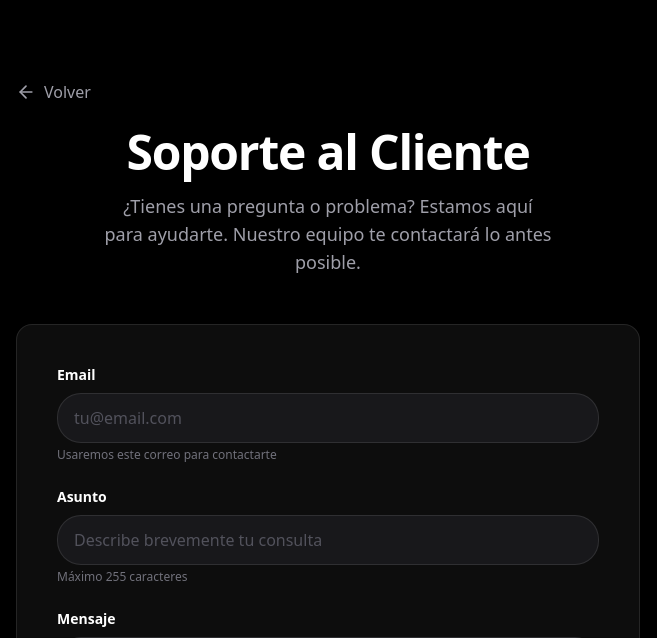
Test case: Support — formulario de contacto › envía el formulario exitosamente
Type "ana@test.cl" into the field labelled "Email" at coordinates (328, 418), box [57,393,599,443]
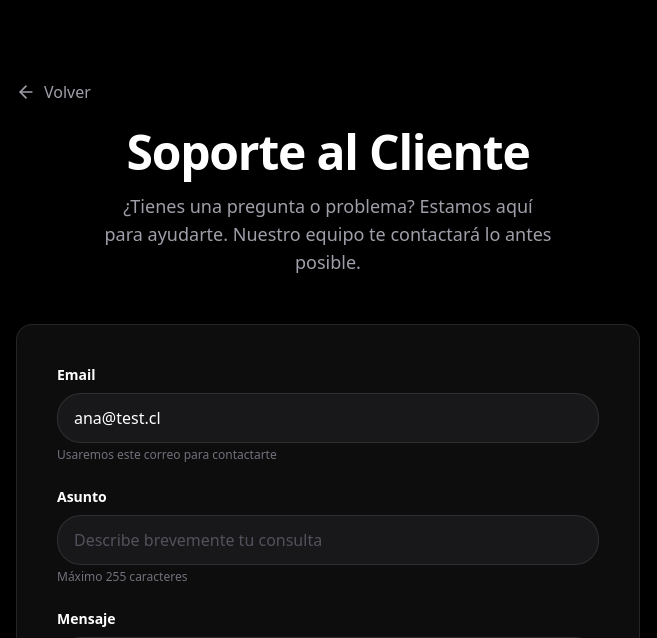
Type "Problema con mi cuenta" into the field labelled "Asunto" at coordinates (328, 540), box [57,515,599,565]
(page scrolled)
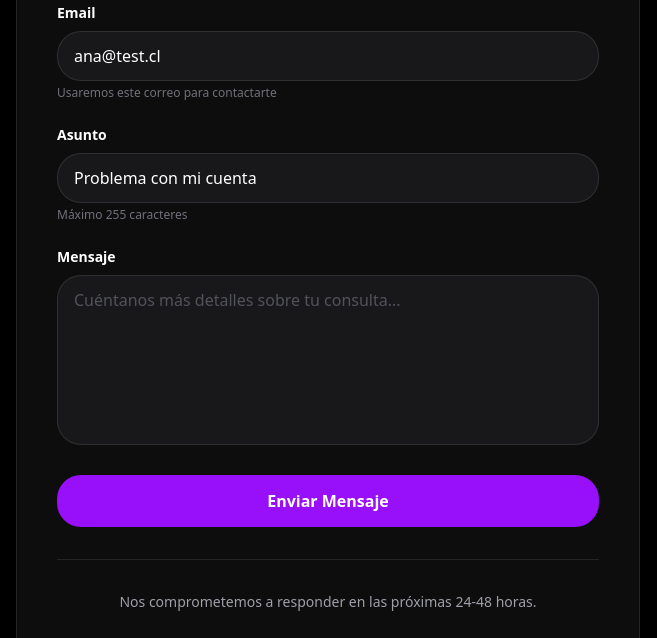
Type "No puedo subir mi demo." into the text box labelled "Mensaje" at coordinates (328, 360), box [57,275,599,445]
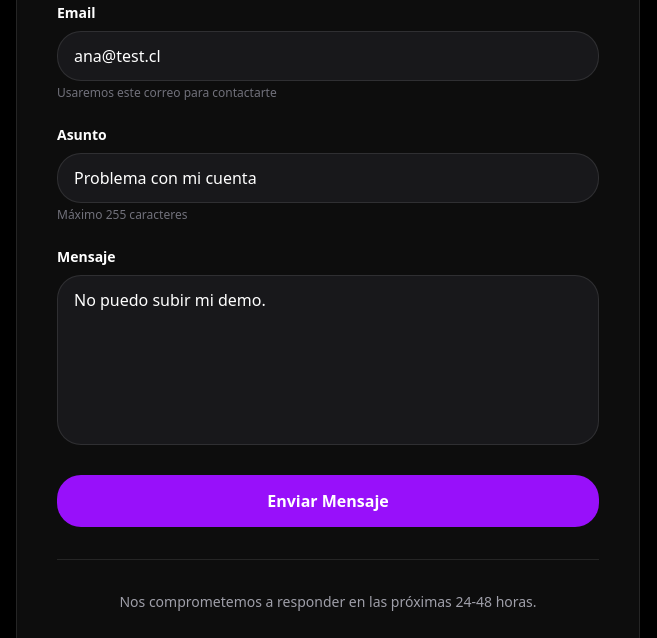
Click the button "Enviar Mensaje" at coordinates (328, 501), box [57,475,599,527]
(page scrolled)
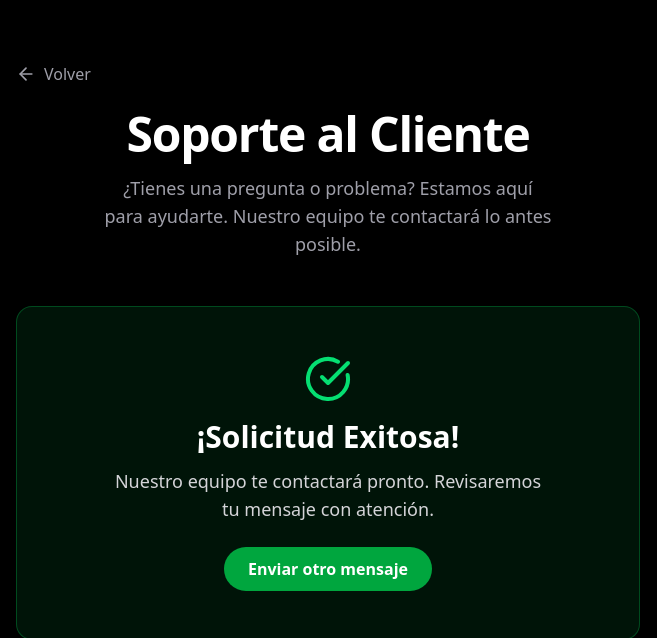
Check: the heading "¡Solicitud Exitosa!" is shown, box [197,416,459,457]
